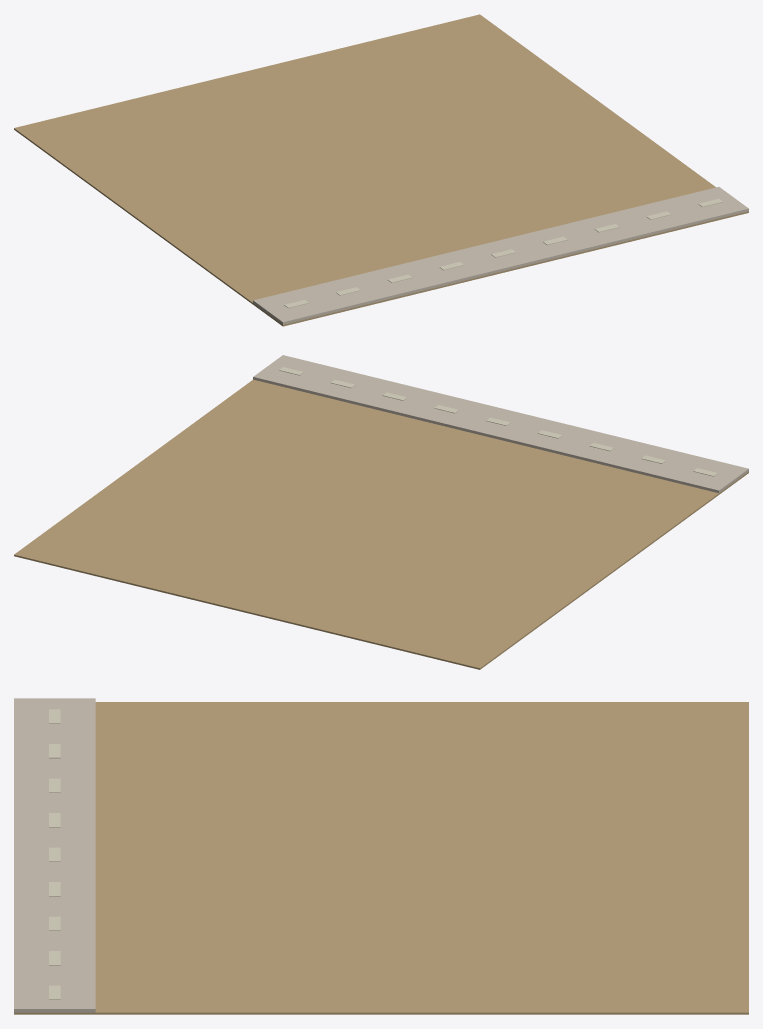
File: stage_00.glb
3 views of the same model, one above another, from view 1: azimuth 30°, elevation 25°; view 2: azimuth 150°, elevation 25°; view 3: azimuth 270°, elevation 25° (orthographic). The views are drawn at different scales.
Visible parts, largest first — view 1: geometry_0; view 2: geometry_0; view 3: geometry_0.
Part boxes in pixels (box(x1,y1,x2,y2)): geometry_0: box(14, 14, 748, 326); geometry_0: box(14, 355, 748, 669); geometry_0: box(14, 698, 748, 1014).
Bounding box in the file's own units: 9 × 0.091 × 9.
